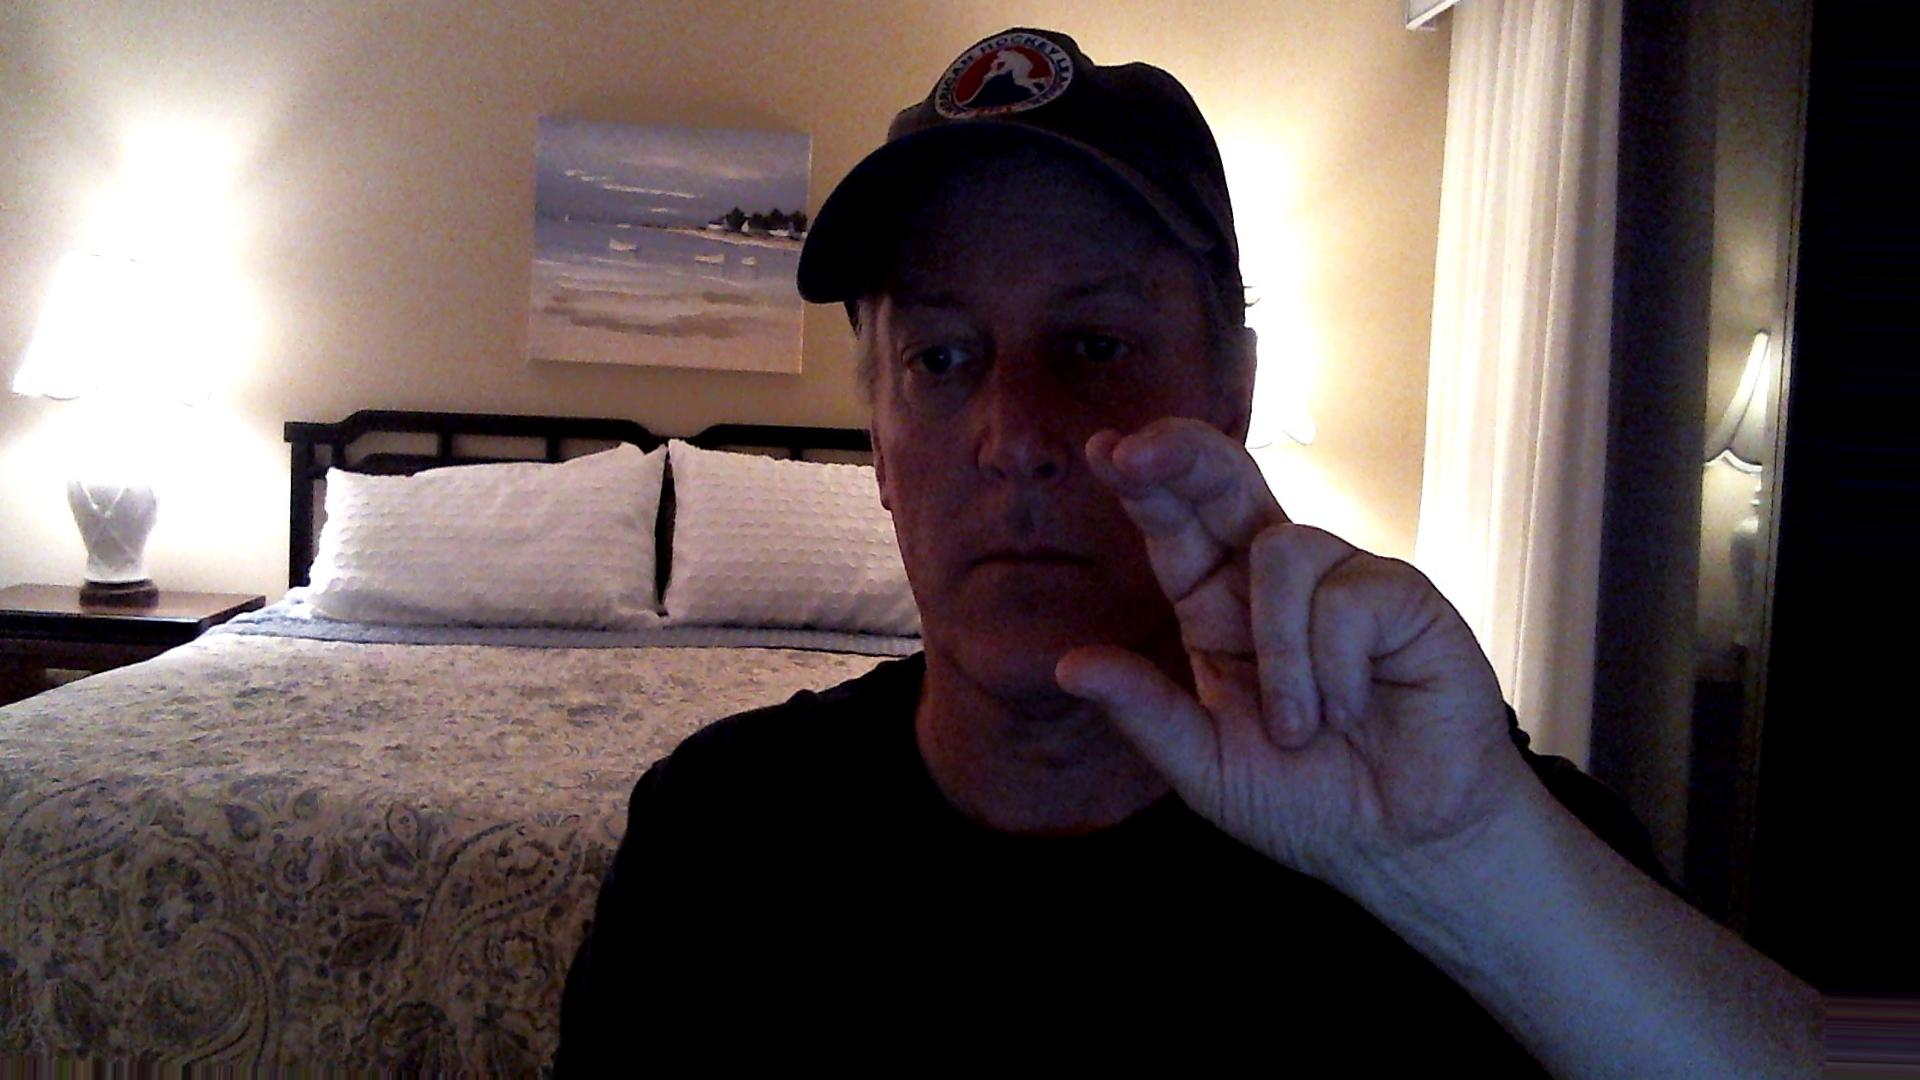No: (1050, 407, 1540, 897)
